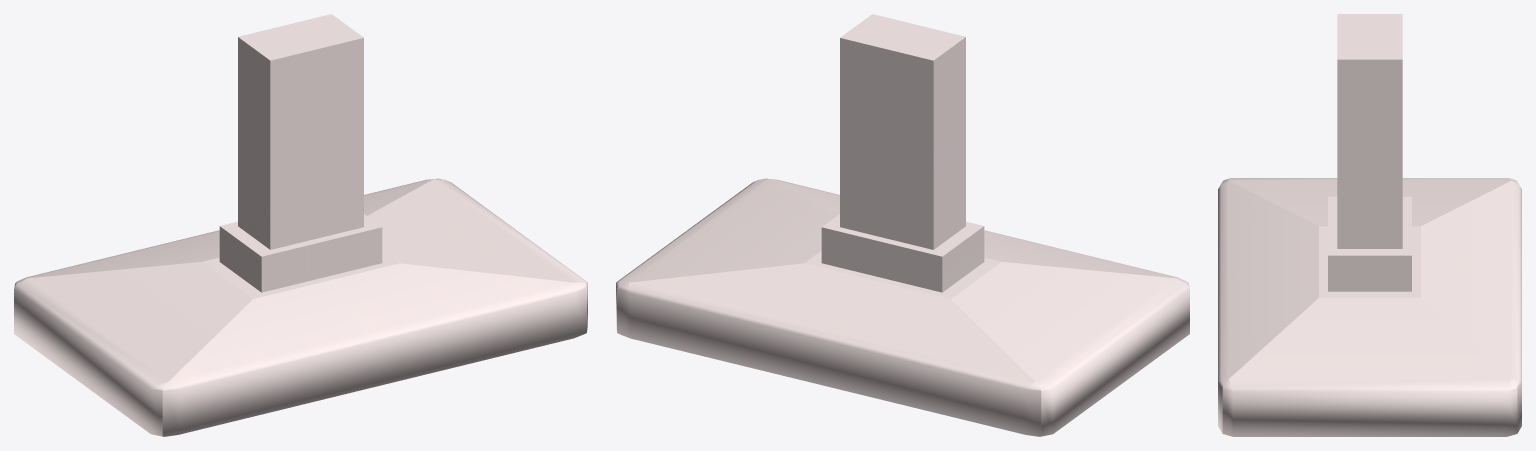
Rendered from luz branca.fbx.
3 renders of one model, left to right at view 1: azimuth 30°, elevation 25°; view 2: azimuth 150°, elevation 25°; view 3: azimuth 270°, elevation 25°, orthographic.
Parts seen in each view (by area): view 1: Cube.005, Cube.007; view 2: Cube.005, Cube.007; view 3: Cube.005, Cube.007.
Boxes of the visible parts, x1=… form: Cube.005: x1=14, y1=178, x2=587, y2=436; Cube.007: x1=238, y1=14, x2=363, y2=249; Cube.005: x1=616, y1=178, x2=1189, y2=436; Cube.007: x1=840, y1=14, x2=965, y2=249; Cube.005: x1=1218, y1=178, x2=1521, y2=436; Cube.007: x1=1337, y1=14, x2=1402, y2=248.
Size of the model in its own units: 203 by 132 by 122.
